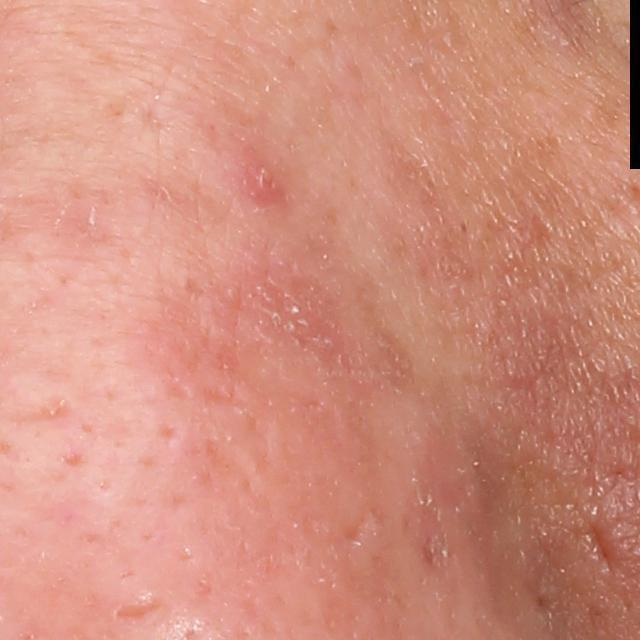atrophic_scar: (577, 512, 628, 578), (8, 394, 75, 430), (108, 588, 171, 625), (342, 510, 369, 546)
papule: (235, 148, 291, 211)
